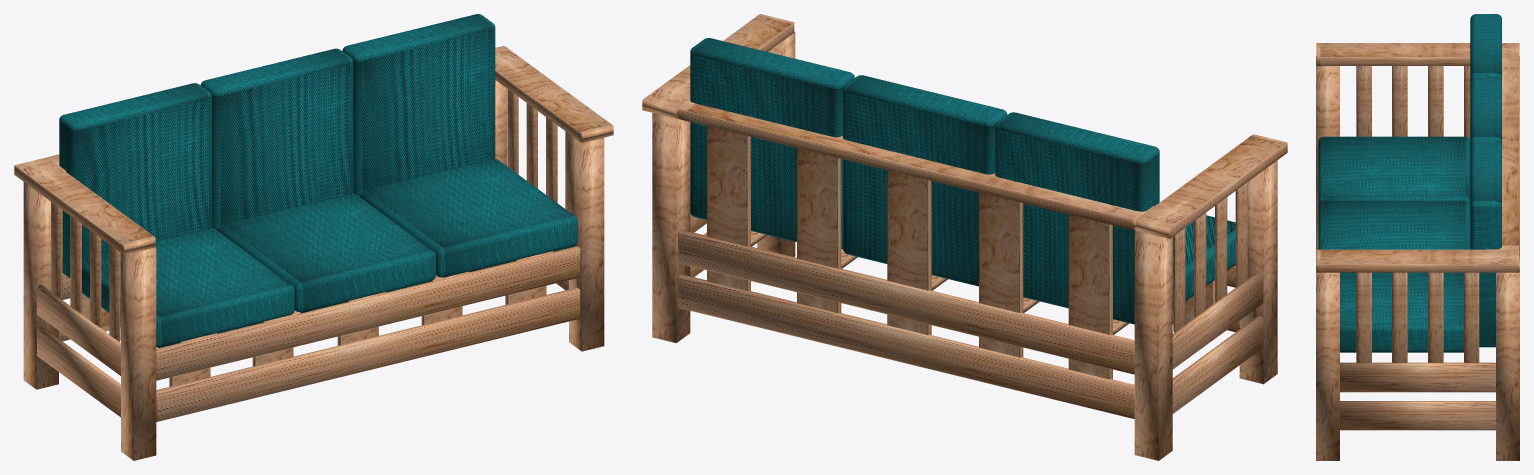
The model's file is Wooden Sofa.fbx.
The picture shows the model from 3 angles, left to right: view 1: azimuth 30°, elevation 25°; view 2: azimuth 150°, elevation 25°; view 3: azimuth 270°, elevation 25°; orthographic projection. The views are drawn at different scales.
Parts seen in each view (by area): view 1: Top, Sit, Front Support 1, Stand, Handle, Handle Support, Side Support, Front Support 2, Front Sp; view 2: Top, back Support, Stand, Upper Back Support, Lower Back Support, Back Support, Handle, Handle Support, Front Support 2, Side Support, Sit, Sit Support; view 3: Sit, Stand, Handle Support, Top, Handle, Front Support 2, Side Support, Back Support, Front Support 1.
Boxes of the visible parts, left/top/right/bottom form: Top: left=59, top=14, right=495, bottom=278; Sit: left=82, top=159, right=577, bottom=347; Front Support 1: left=156, top=246, right=580, bottom=421; Stand: left=23, top=80, right=604, bottom=460; Handle: left=14, top=46, right=613, bottom=254; Handle Support: left=51, top=89, right=568, bottom=341; Side Support: left=37, top=280, right=568, bottom=417; Front Support 2: left=37, top=284, right=120, bottom=375; Front Sp: left=169, top=285, right=546, bottom=386; Top: left=690, top=38, right=1159, bottom=324; back Support: left=707, top=126, right=1112, bottom=379; Stand: left=652, top=32, right=1277, bottom=460; Upper Back Support: left=678, top=229, right=1134, bottom=374; Lower Back Support: left=678, top=274, right=1134, bottom=418; Back Support: left=677, top=99, right=1154, bottom=229; Handle: left=642, top=14, right=1287, bottom=238; Handle Support: left=1173, top=182, right=1247, bottom=332; Front Support 2: left=690, top=213, right=1263, bottom=369; Side Support: left=690, top=232, right=1263, bottom=413; Sit: left=1172, top=215, right=1235, bottom=310; Sit Support: left=751, top=231, right=1129, bottom=334; Sit: left=1318, top=136, right=1470, bottom=352; Stand: left=1316, top=56, right=1519, bottom=460; Handle Support: left=1356, top=66, right=1479, bottom=362; Top: left=1470, top=14, right=1501, bottom=347; Handle: left=1316, top=43, right=1519, bottom=272; Front Support 2: left=1340, top=362, right=1495, bottom=392; Side Support: left=1340, top=401, right=1495, bottom=430; Back Support: left=1485, top=57, right=1519, bottom=249; Front Support 1: left=1316, top=164, right=1318, bottom=249.
Size of the model in its own units: 876 by 456 by 341.
Materials: 2 (2 with a texture image).
